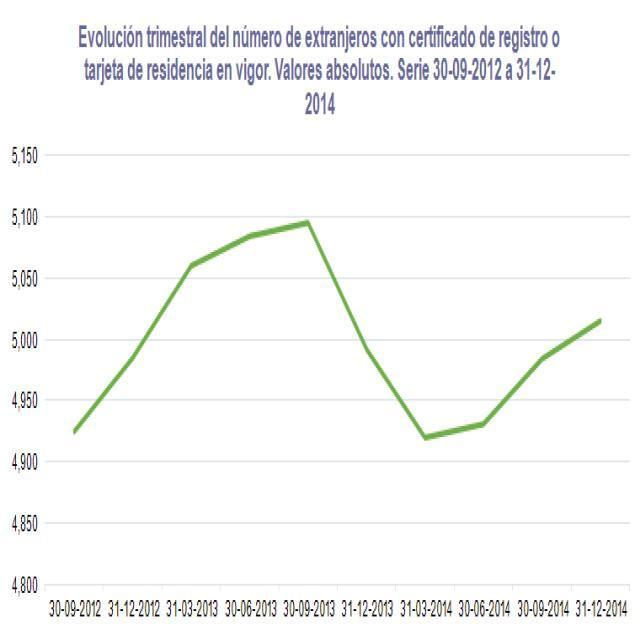axis: (43, 578, 638, 593), (40, 129, 50, 596)
line: (68, 215, 608, 446)
